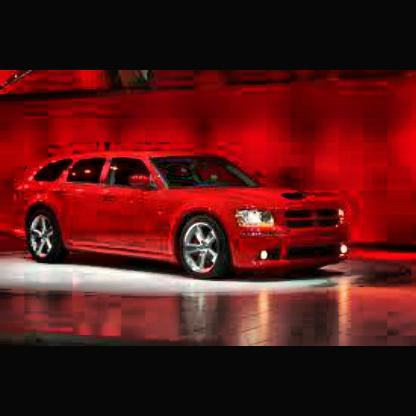Dodge Magnum Wagon 2008: (2, 144, 354, 283)
